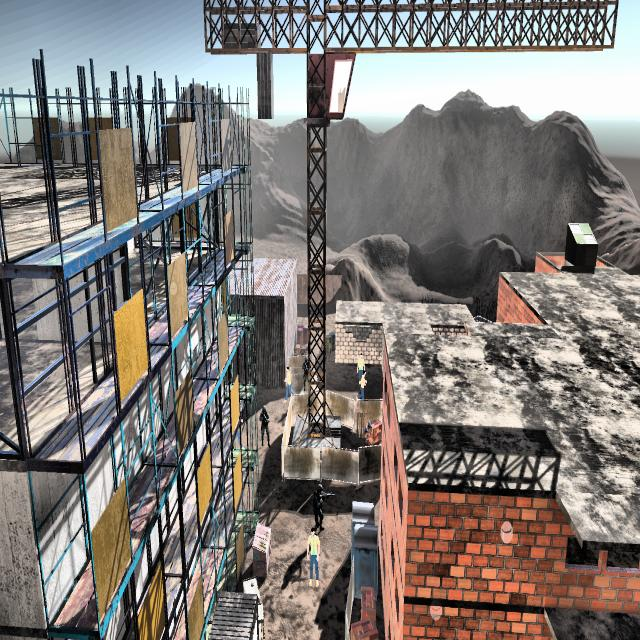bad: (310, 477, 332, 532), (256, 401, 272, 451), (300, 349, 310, 394)
good: (304, 522, 326, 598), (281, 357, 295, 406), (357, 372, 370, 398), (354, 349, 366, 375)
